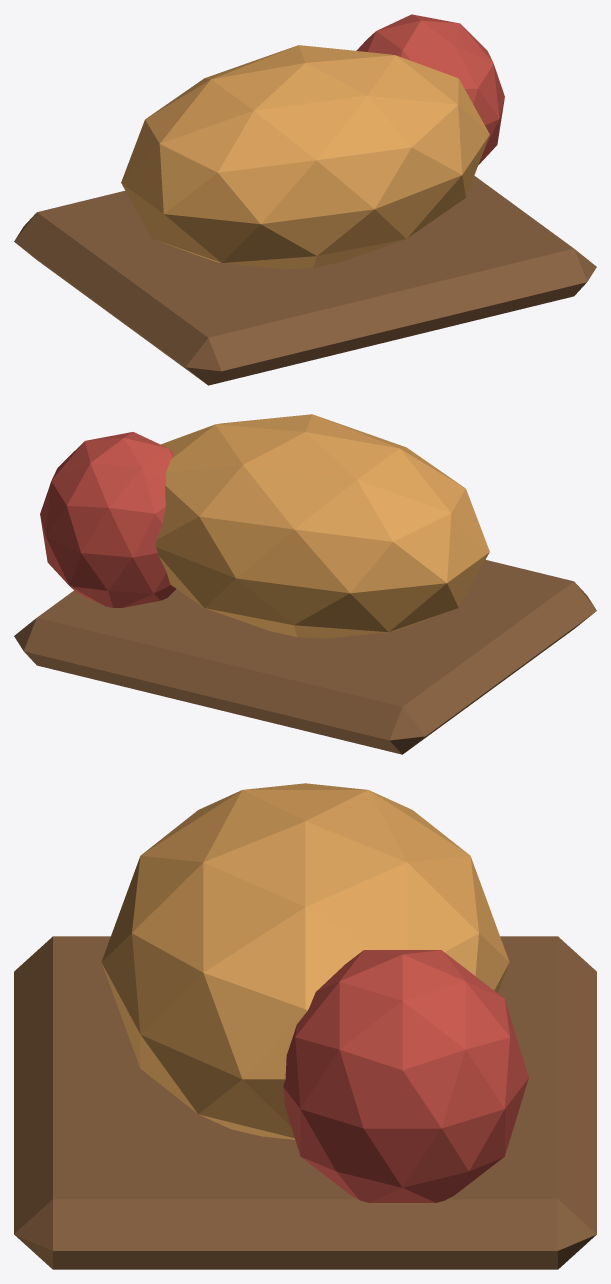
Rendered from food.glb.
3 renders of one model, top to bottom at view 1: azimuth 30°, elevation 25°; view 2: azimuth 150°, elevation 25°; view 3: azimuth 270°, elevation 25°, orthographic. The views are drawn at different scales.
Visible parts, largest first — view 1: food; view 2: food; view 3: food.
Part boxes in pixels (x1,y1,x2,y2): food: (14, 14, 596, 385); food: (14, 414, 596, 754); food: (14, 783, 596, 1269).
Bounding box in the file's own units: 0.7436 × 0.36 × 0.6.
